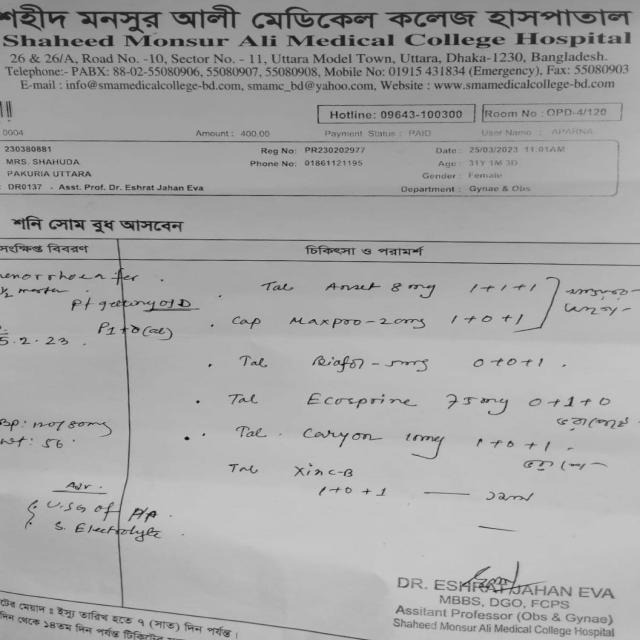Anset: (321, 279, 381, 294)
Biofol: (307, 351, 369, 373)
Caryon: (292, 424, 385, 448)
Ecosprin: (300, 388, 420, 414)
Maxpro: (283, 313, 367, 331)
Xinc B: (285, 460, 363, 481)
